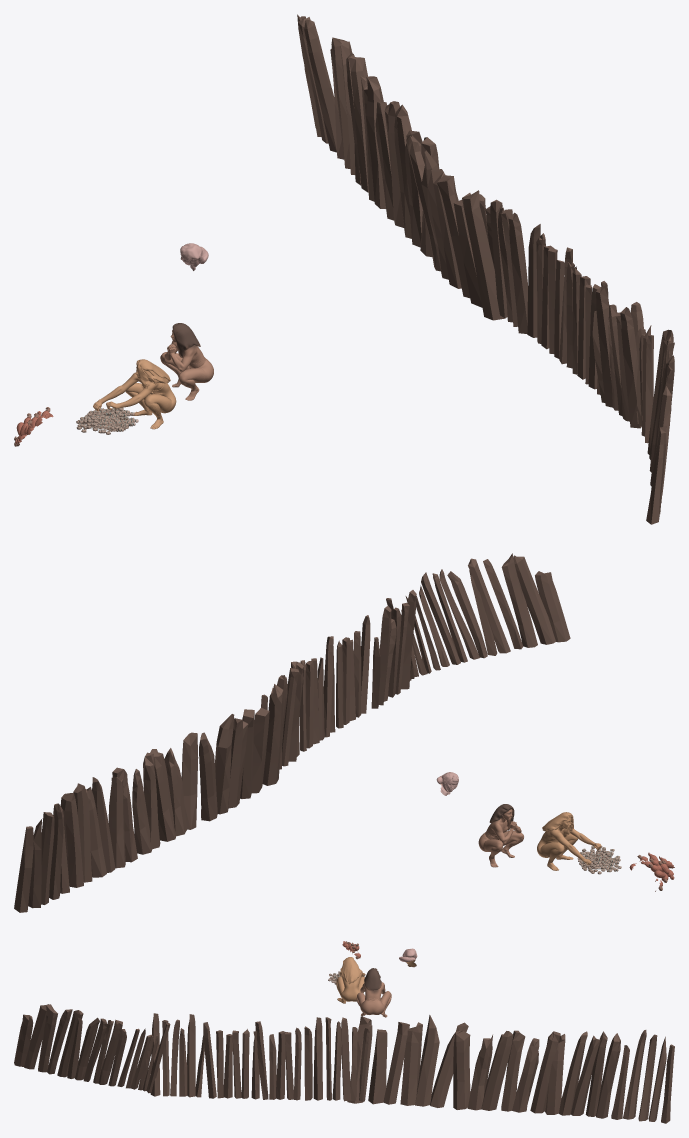
The picture shows the model from 3 angles, top to bottom: view 1: azimuth 30°, elevation 25°; view 2: azimuth 150°, elevation 25°; view 3: azimuth 270°, elevation 25°; orthographic projection. The views are drawn at different scales.
Bounding box in the file's own units: 11.88 × 2.92 × 18.6.
